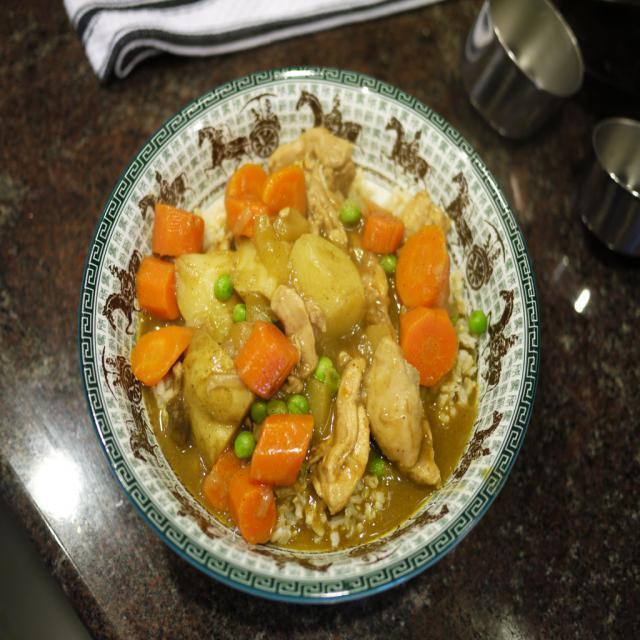Carrot: (247, 408, 314, 488), (401, 302, 458, 386), (397, 227, 455, 306), (129, 326, 197, 386), (229, 461, 275, 540), (152, 202, 205, 260), (138, 254, 182, 316), (200, 448, 240, 508), (262, 167, 305, 215), (361, 211, 404, 257), (222, 156, 266, 197), (224, 196, 270, 232)
